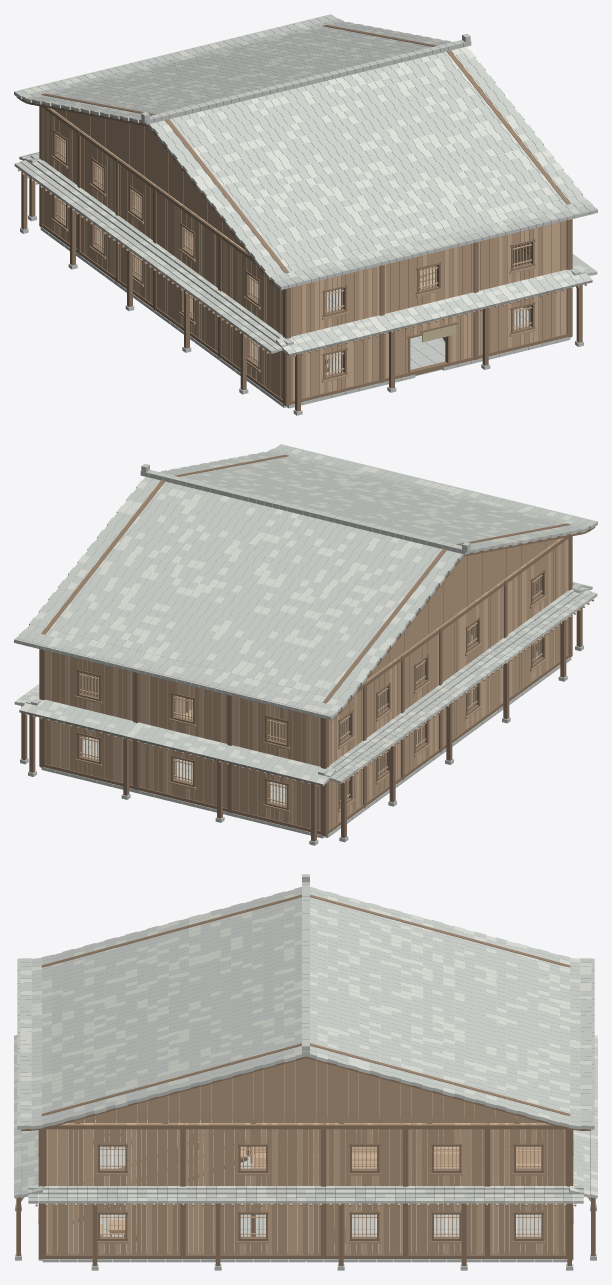
File: Inn_v2_build001.fbx
3 views of the same model, one above another, from view 1: azimuth 30°, elevation 25°; view 2: azimuth 150°, elevation 25°; view 3: azimuth 270°, elevation 25° (orthographic). The views are drawn at different scales.
Parts seen in each view (by area): view 1: Tiles, Tiles.001, Tiles.005, Gable_W, Tiles.002, Planks.003, Planks.005, Planks.001, Planks.004, Planks, Planks.025, Ridge.001 (+23 smaller); view 2: Tiles.001, Tiles, Tiles.005, Gable_W, Tiles.003, Planks.009, Planks.011, Planks.007, Planks.010, Planks.008, Planks.006, Planks.025 (+24 smaller); view 3: Tiles, Tiles.001, Gable_E, Tiles.004, Planks.015, Planks.013, Ground_Stone, Planks.014, Planks.012, Planks.019, Planks.017, Planks.021 (+33 smaller).
Part boxes in pixels (bbox=[...]): Tiles: bbox=[148, 47, 596, 286]; Tiles.001: bbox=[15, 15, 451, 124]; Tiles.005: bbox=[14, 154, 293, 353]; Gable_W: bbox=[41, 93, 289, 273]; Tiles.002: bbox=[275, 265, 592, 356]; Planks.003: bbox=[384, 243, 473, 313]; Planks.005: bbox=[478, 220, 566, 290]; Planks.001: bbox=[291, 266, 379, 336]; Planks.004: bbox=[478, 289, 566, 355]; Planks: bbox=[291, 334, 379, 400]; Planks.025: bbox=[156, 186, 221, 287]; Ridge.001: bbox=[142, 40, 471, 124]; Tiles.001: bbox=[15, 477, 464, 717]; Tiles: bbox=[160, 445, 596, 554]; Tiles.005: bbox=[318, 584, 597, 783]; Gable_W: bbox=[322, 523, 570, 703]; Tiles.003: bbox=[19, 695, 336, 786]; Planks.009: bbox=[138, 673, 227, 743]; Planks.011: bbox=[45, 650, 133, 720]; Planks.007: bbox=[232, 696, 320, 766]; Planks.010: bbox=[45, 719, 133, 785]; Planks.008: bbox=[138, 742, 227, 808]; Planks.006: bbox=[232, 764, 320, 830]; Planks.025: bbox=[439, 580, 504, 681]; Tiles: bbox=[20, 887, 303, 1129]; Tiles.001: bbox=[308, 887, 591, 1129]; Gable_E: bbox=[41, 1043, 570, 1122]; Tiles.004: bbox=[28, 1185, 583, 1203]; Planks.015: bbox=[183, 1123, 323, 1186]; Planks.013: bbox=[46, 1123, 182, 1186]; Ground_Stone: bbox=[42, 1120, 564, 1260]; Planks.014: bbox=[185, 1200, 320, 1254]; Planks.012: bbox=[46, 1200, 180, 1254]; Planks.019: bbox=[405, 1123, 487, 1186]; Planks.017: bbox=[325, 1123, 405, 1186]; Planks.021: bbox=[488, 1123, 565, 1186].
Size of the model in its own units: 2323 by 1422 by 3322.
